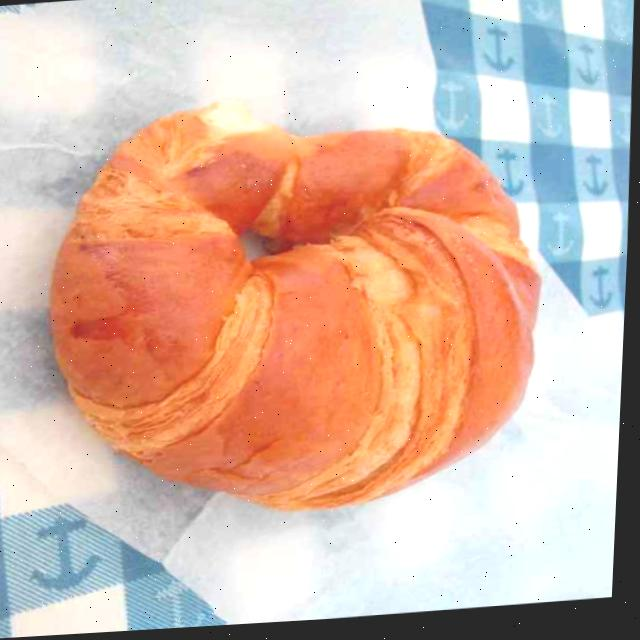面包点心: (30, 79, 575, 541)
